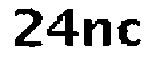2: (10, 4, 43, 50)
4: (45, 6, 80, 48)
c: (116, 15, 147, 52)
n: (80, 16, 114, 50)
